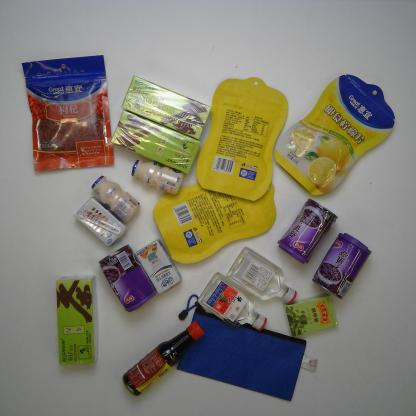Alcohol: (226, 247, 298, 307), (201, 272, 267, 334)
Candy: (283, 294, 341, 335)
Canned Food: (278, 197, 338, 263), (98, 244, 157, 311), (313, 232, 372, 296)
Dried Fruit: (277, 73, 394, 196), (198, 77, 288, 203), (156, 172, 277, 262), (23, 55, 113, 172)
Instant Drink: (123, 74, 211, 142), (112, 109, 200, 177), (55, 274, 96, 367)
Milk: (135, 241, 182, 294), (77, 197, 126, 246), (92, 176, 142, 221), (128, 158, 184, 196)
Seasoner: (122, 322, 204, 397)
Stationery: (176, 293, 307, 402)
